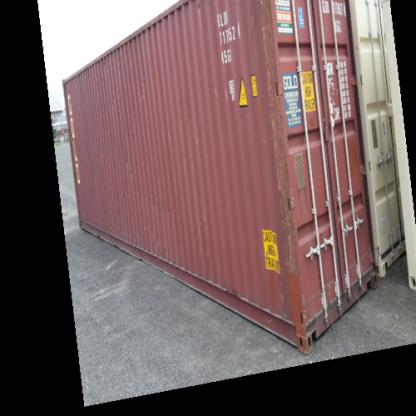Damage: (252, 2, 308, 287)
